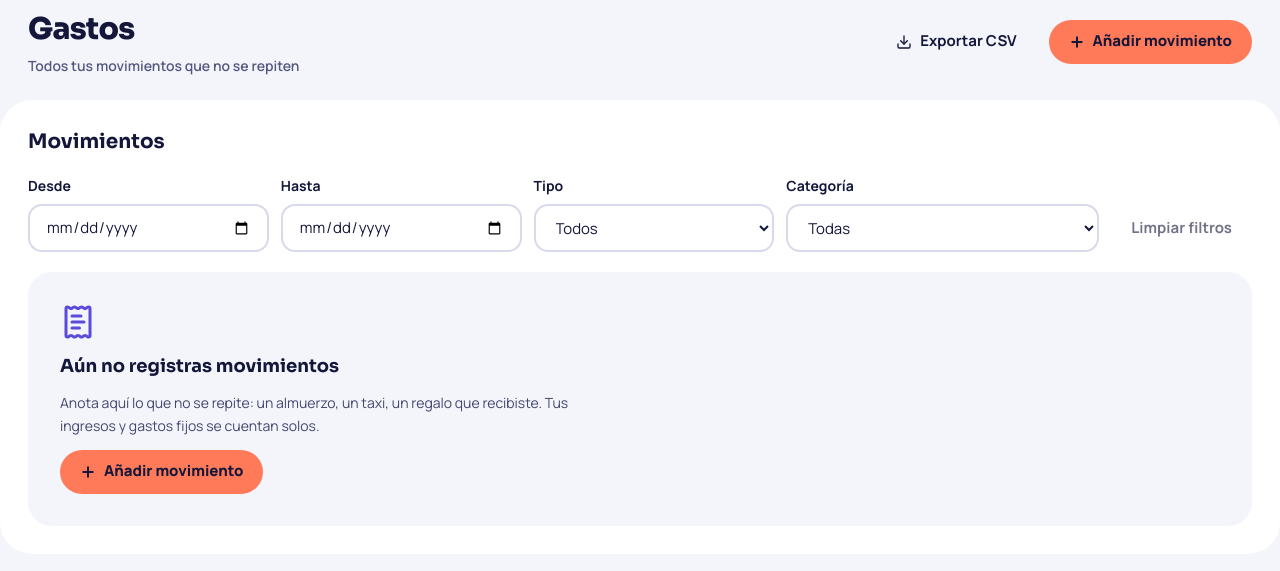
Test: TransactionsPage › tells apart 'no data yet' from 'no results for these filters'
This screenshot has width=1280, height=571.
Check: the heading "Aún no registras movimientos" is shown, box left=60, top=352, right=339, bottom=380
Select "Ingresos" in the dropdown labelled "Tipo". click: x=654, y=228
box: left=534, top=204, right=774, bottom=252
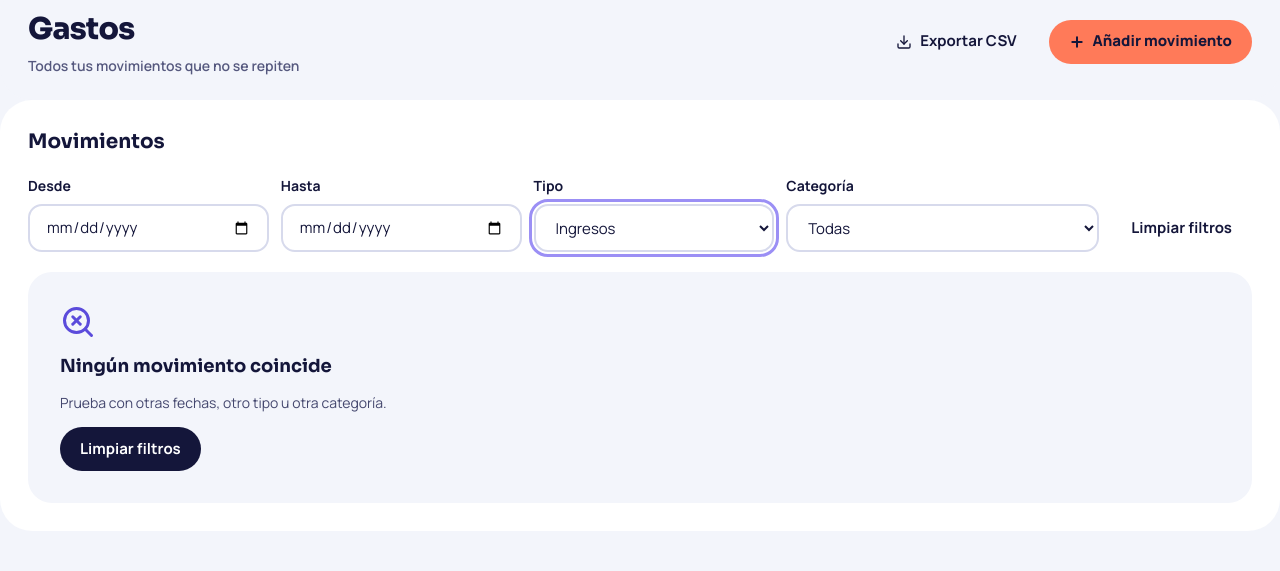
Check: the heading "Ningún movimiento coincide" is shown, box left=60, top=352, right=332, bottom=380
